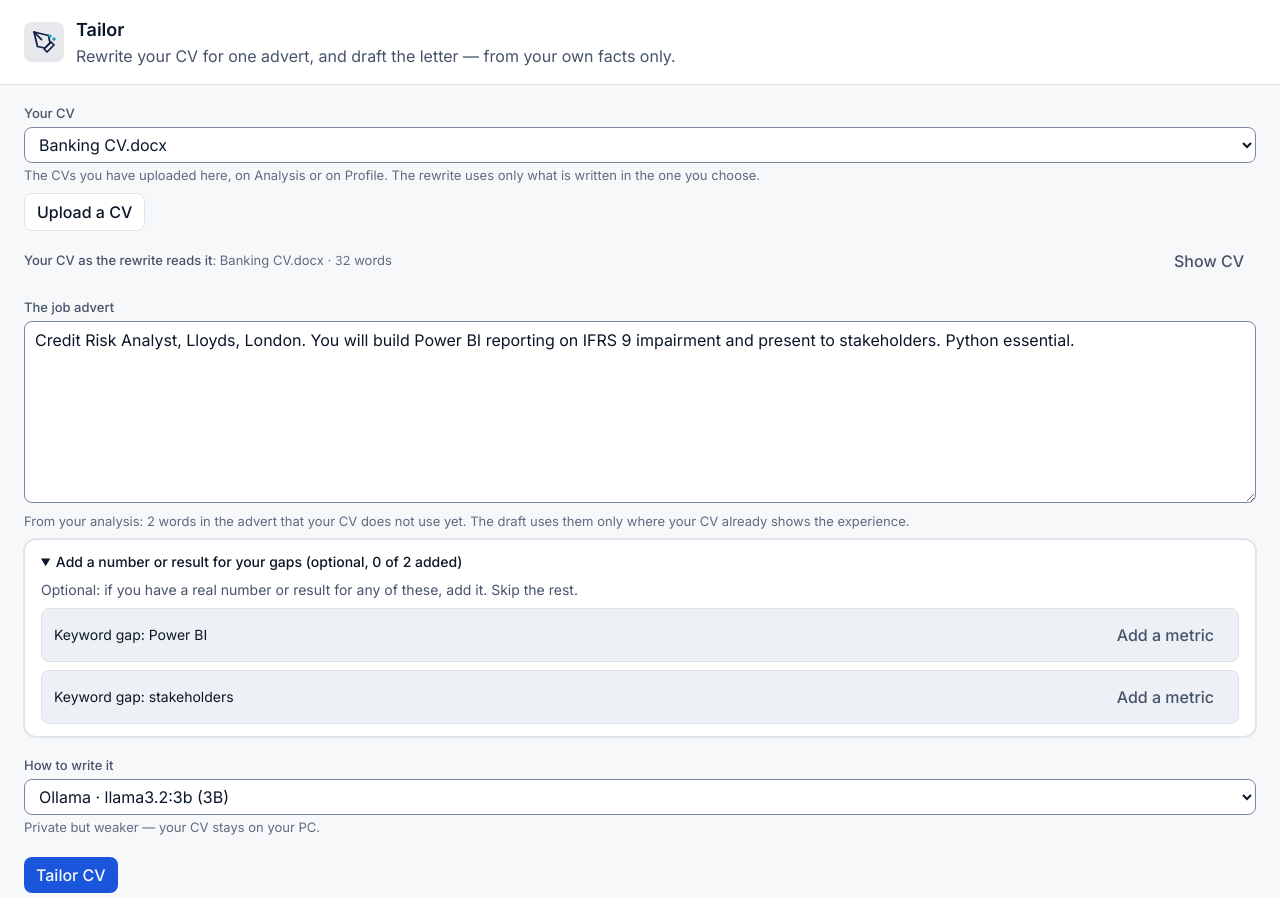
metric prompts on the Tailor screen (L-205) › negative: another CV is not the one analysed — the boxes go away
Click the button "Add a metric" in the row of "Keyword gap: Power BI": coordinates (1165, 635) [1105, 617, 1226, 653]
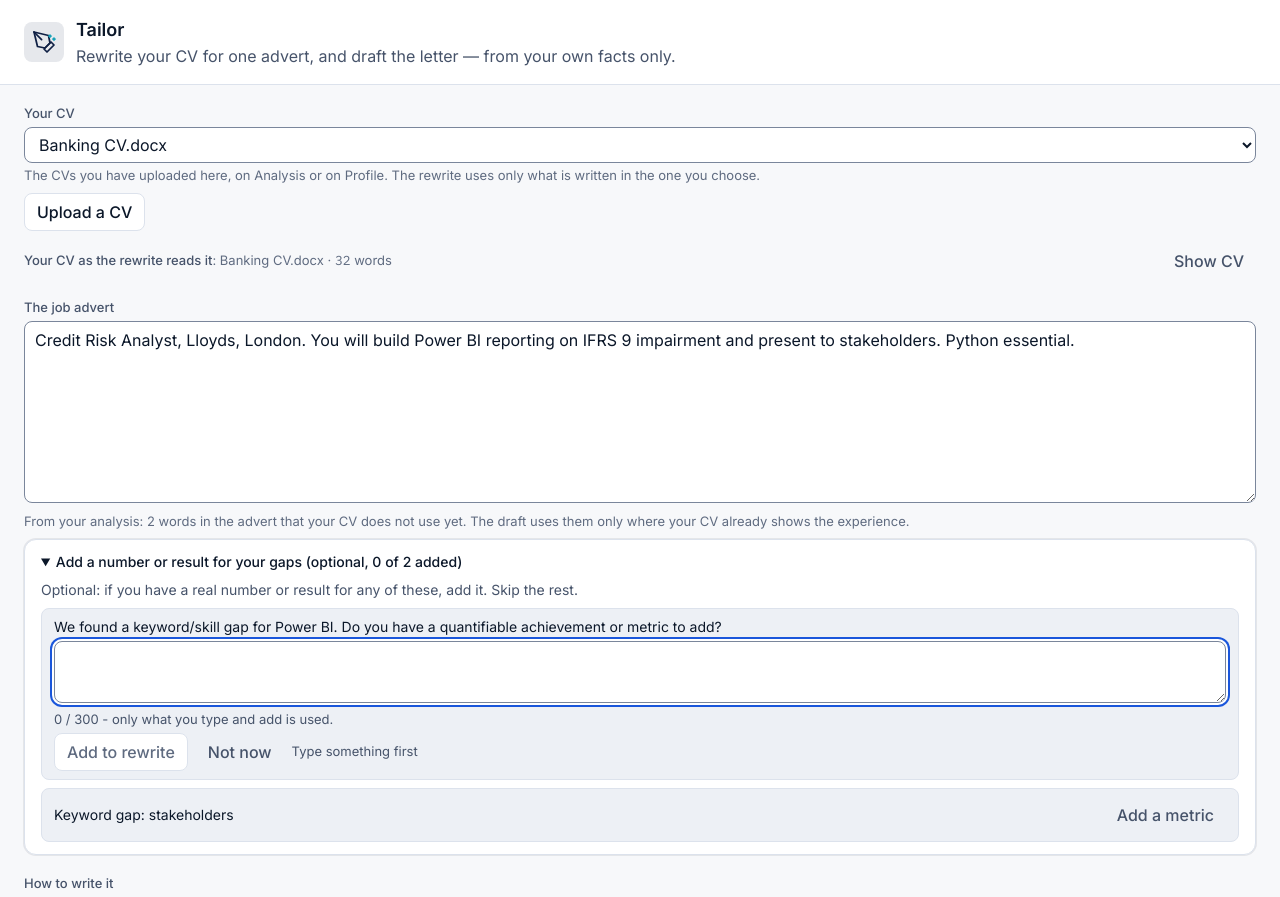
Click the button "Add a metric": coordinates (1165, 815) [1105, 797, 1226, 833]
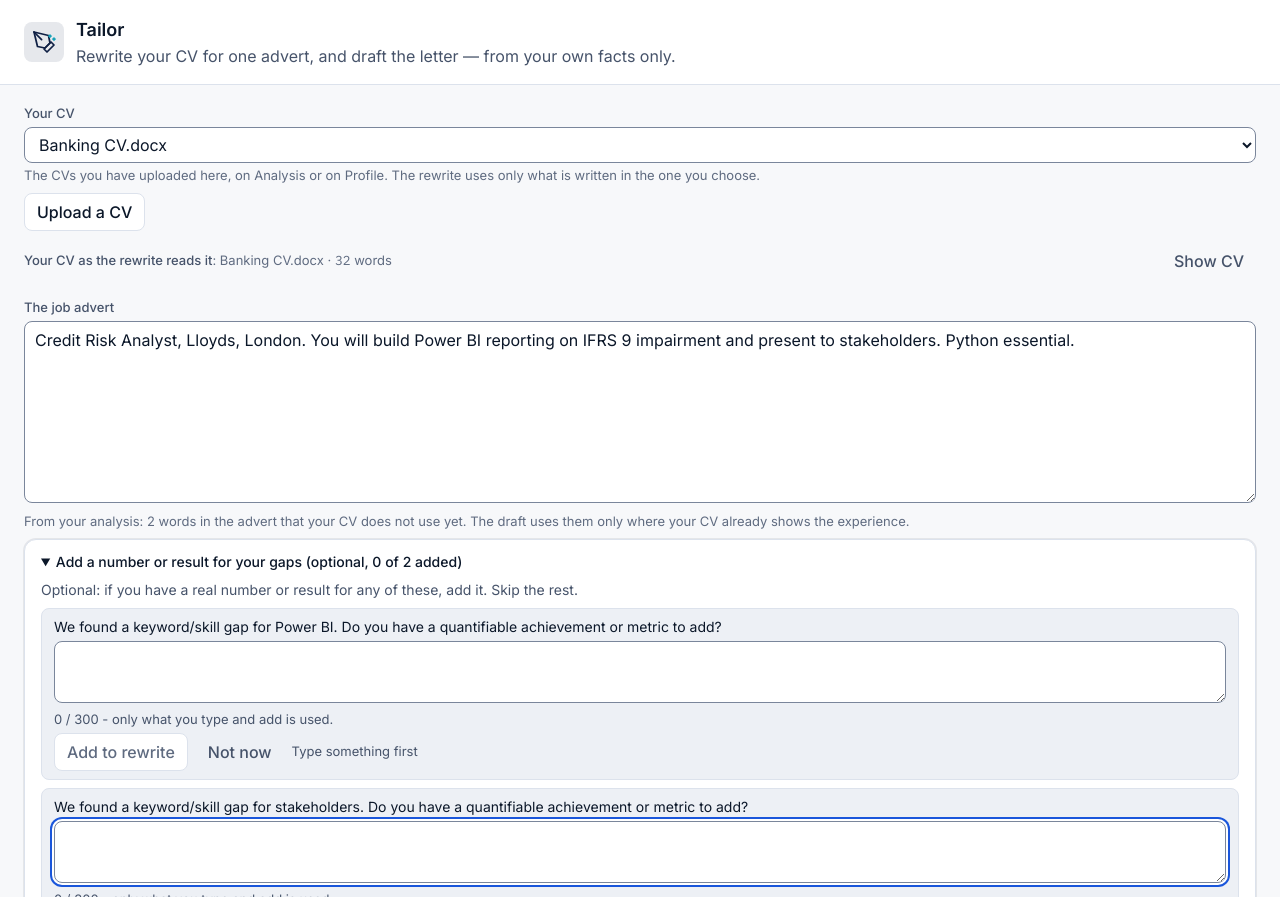
Select "CV.docx" in the dropdown with test id "tailor-cv-pick": coordinates (640, 145) [24, 127, 1256, 163]
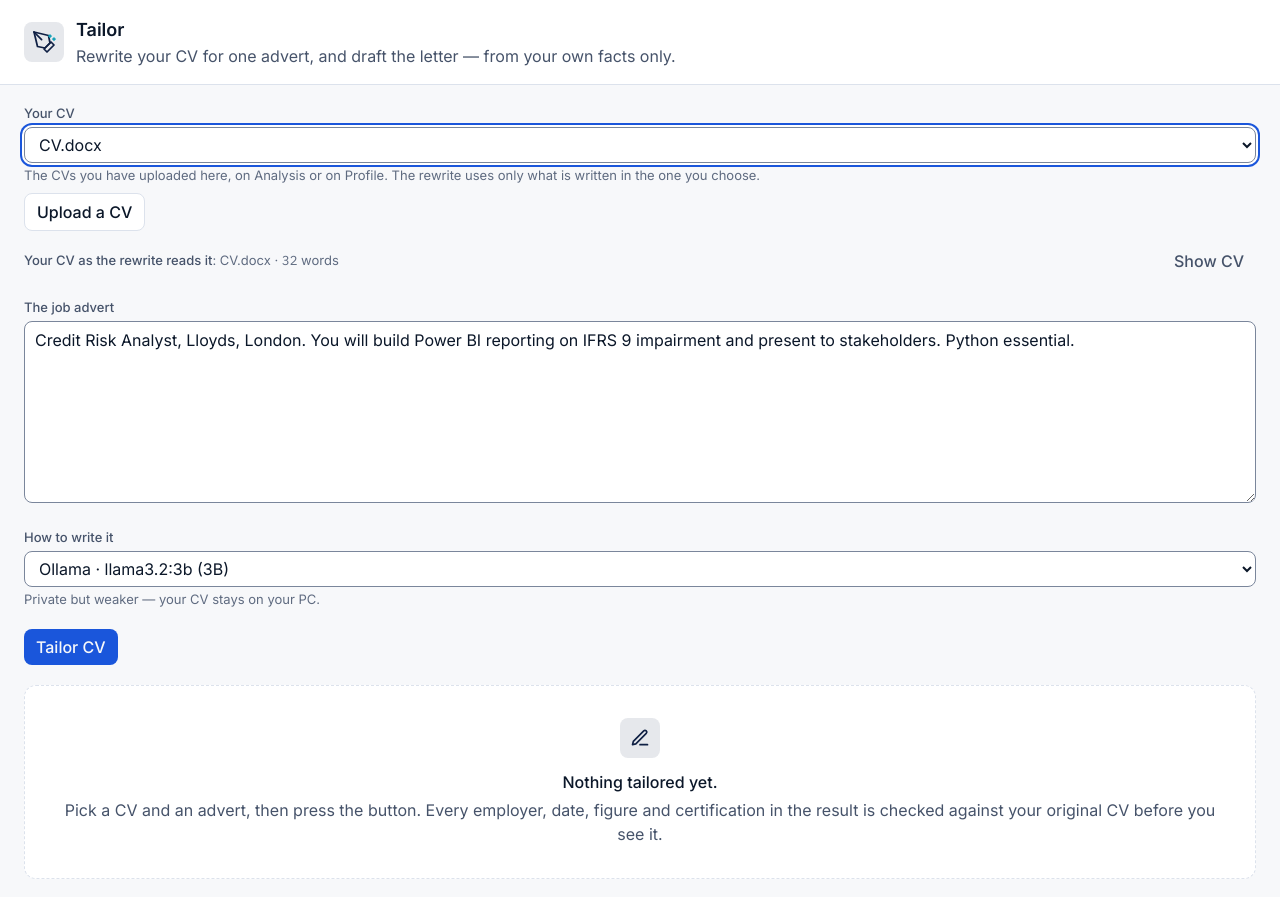
Result: the element with test id "tailor-metric-prompt" is gone
